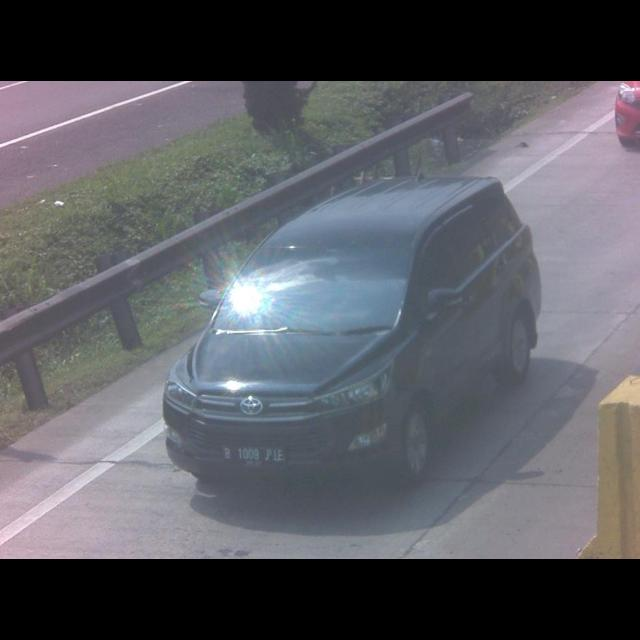plate: (219, 447, 285, 468)
